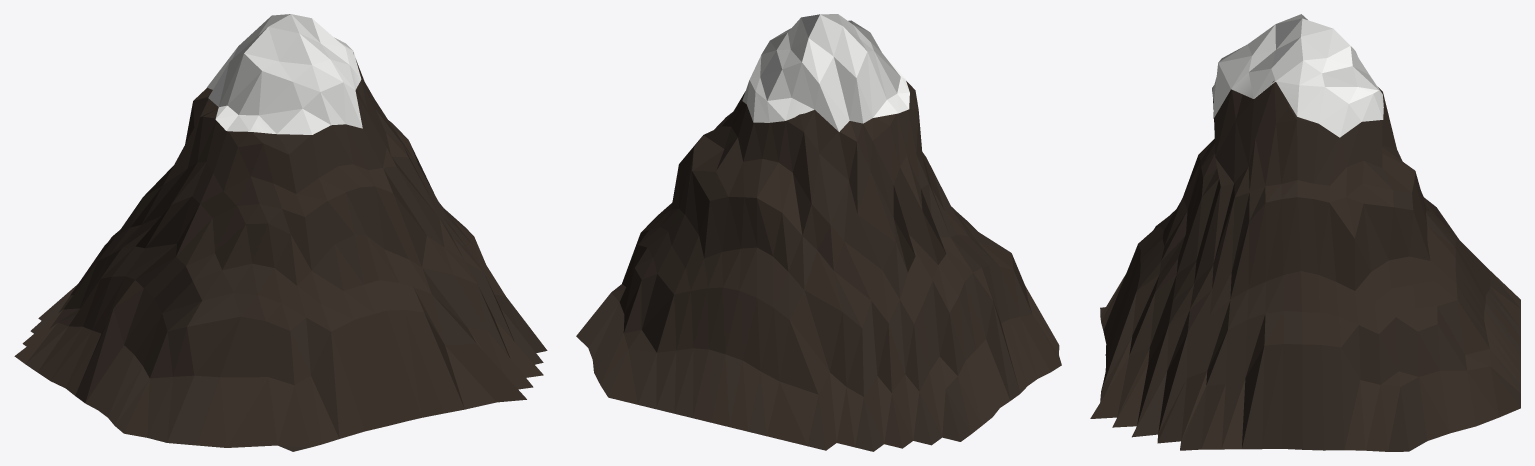
Rendered from Mountain_W_Top_7.fbx.
3 views of the same model, side by side, from view 1: azimuth 30°, elevation 25°; view 2: azimuth 150°, elevation 25°; view 3: azimuth 270°, elevation 25° (orthographic). The views are drawn at different scales.
Parts seen in each view (by area): view 1: Mountain11; view 2: Mountain11; view 3: Mountain11.
Part boxes in pixels (left/top/right/bottom): Mountain11: left=14, top=14, right=547, bottom=451; Mountain11: left=576, top=14, right=1061, bottom=451; Mountain11: left=1090, top=14, right=1520, bottom=451.
Bounding box in the file's own units: 6895 × 5480 × 6339.
1 material, 1 textured.
